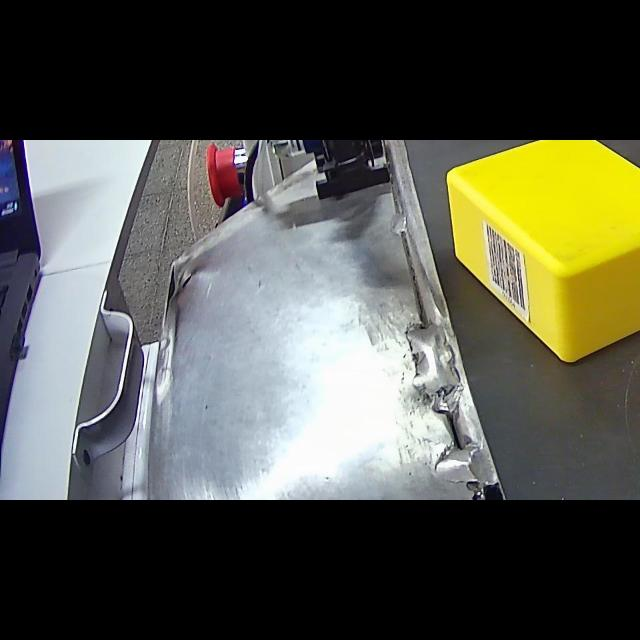yellowBox: (442, 140, 640, 370)
